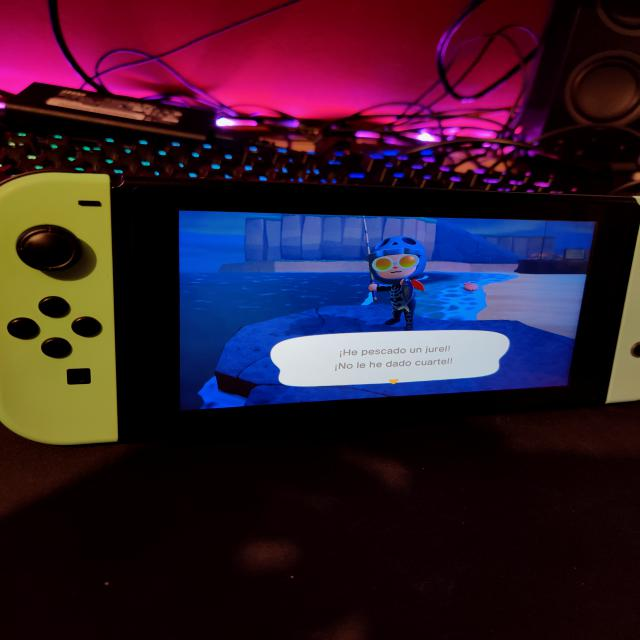text_bubble: (268, 328, 514, 389)
